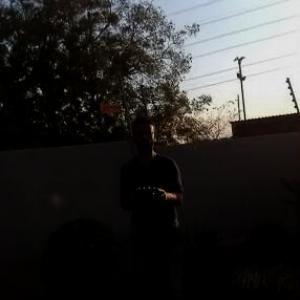follow: (115, 106, 191, 299)
